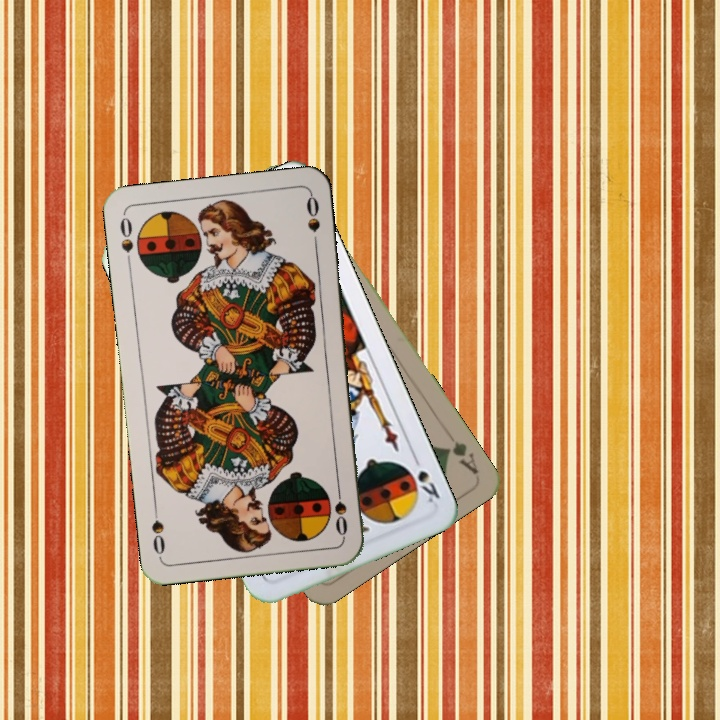GA: (439, 437, 481, 477)
SK: (402, 450, 443, 506)
SO: (330, 480, 350, 539), (116, 213, 136, 270)
